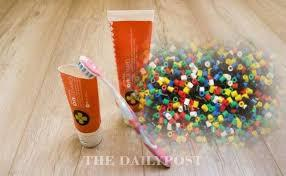toothpaste: (108, 8, 153, 130)
